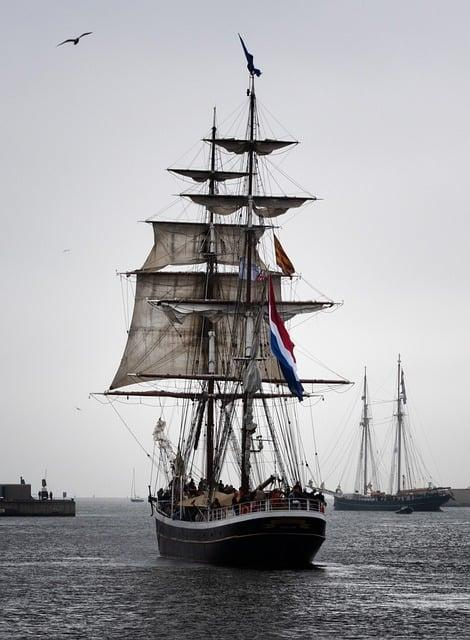Ship: (105, 42, 351, 568), (311, 357, 455, 512), (1, 479, 76, 517)
